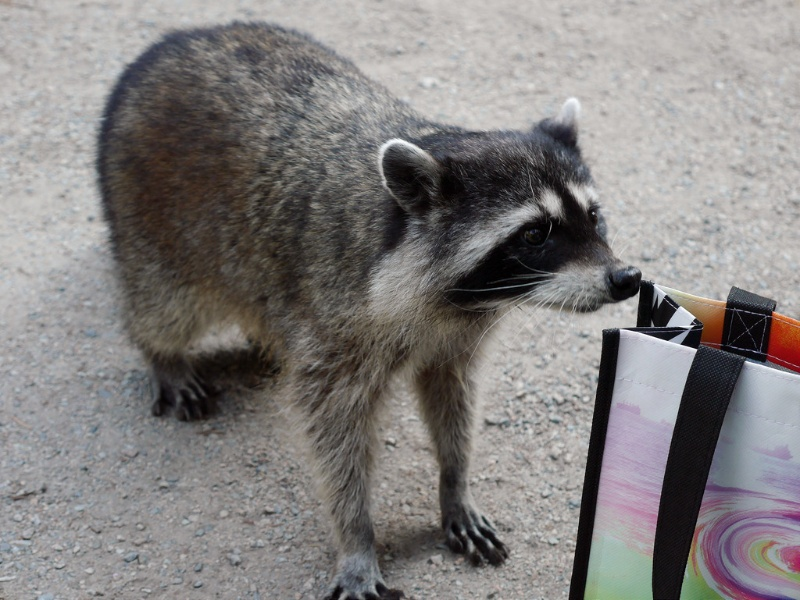raccoon: (94, 12, 642, 594)
